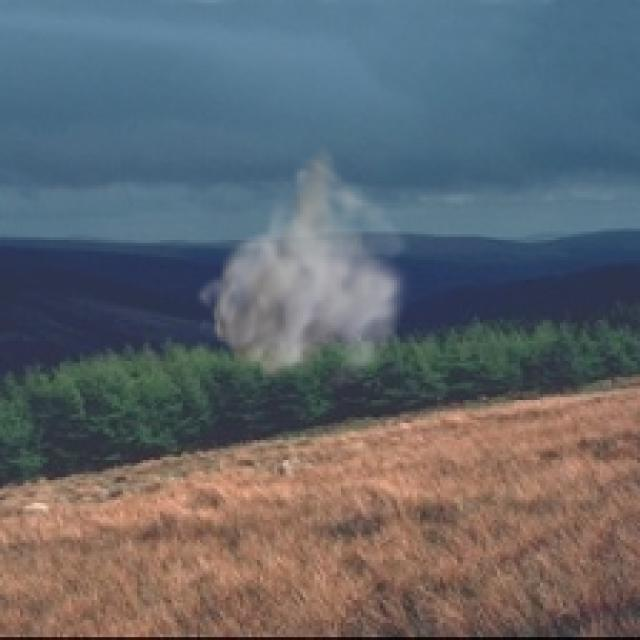smoke: (194, 140, 414, 403)
